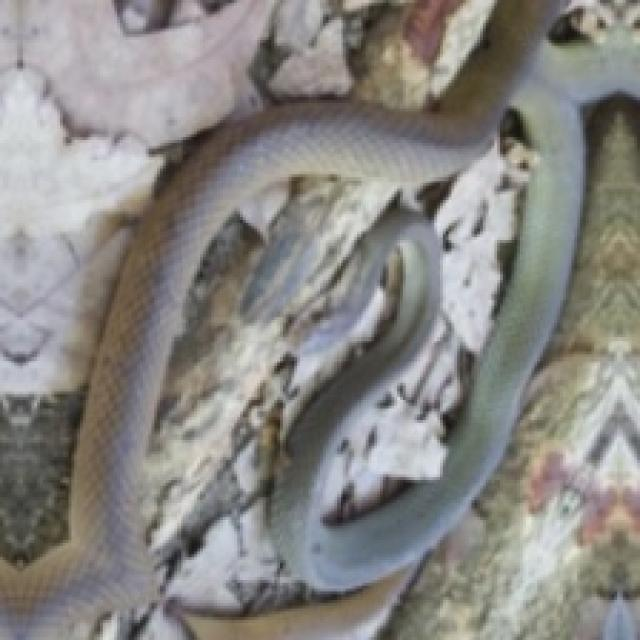reddish rat snake: (0, 0, 558, 640), (270, 44, 639, 591)
